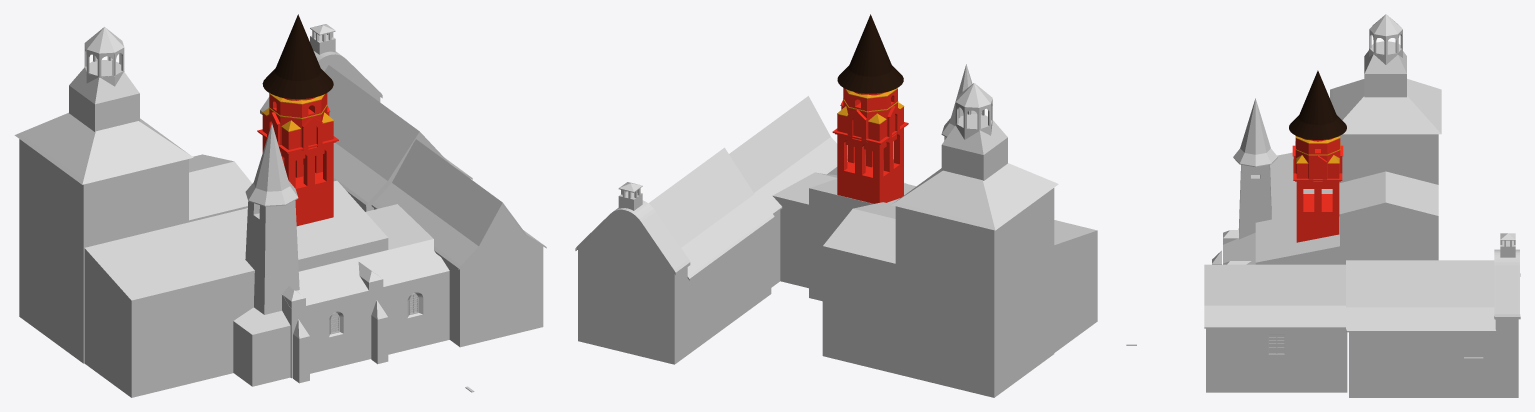
File: TheChurch.fbx
The picture shows the model from 3 angles, left to right: view 1: azimuth 30°, elevation 25°; view 2: azimuth 150°, elevation 25°; view 3: azimuth 270°, elevation 25°; orthographic projection. The views are drawn at different scales.
Visible parts, largest first — view 1: Cube.002, Cube.005, Building 1, Cube, Cube.006, Tower 1, Cube.003, Cube.001, Cube.008, Cone.002, Cylinder, Cube.010 (+5 smaller); view 2: Cube.005, Cube.006, Cube.002, Building 1, Cube.003, Cube, Cube.008, Cone.002, Cylinder, Cylinder.005, Cube.004, Cylinder.006 (+2 smaller); view 3: Cube.006, Building 1, Cube.005, Cube.002, Tower 1, Cube.003, Cone.002, Cube.008, Cube, Cylinder, Cylinder.005, Cylinder.006 (+2 smaller).
Part boxes in pixels (x1,y1,x2,y2): Cube.002: [84, 180, 388, 397]; Cube.005: [14, 112, 252, 363]; Building 1: [371, 139, 546, 347]; Cube: [282, 204, 449, 378]; Cube.006: [260, 51, 472, 211]; Tower 1: [245, 123, 299, 314]; Cube.003: [257, 113, 338, 226]; Cube.001: [233, 307, 290, 386]; Cube.008: [69, 67, 139, 131]; Cone.002: [262, 14, 333, 99]; Cylinder: [269, 93, 327, 150]; Cube.010: [371, 300, 388, 364]; Cube.005: [822, 163, 1058, 397]; Cube.006: [575, 147, 774, 364]; Cube.002: [809, 178, 1097, 352]; Building 1: [729, 96, 847, 287]; Cube.003: [832, 107, 908, 203]; Cube: [772, 172, 906, 288]; Cube.008: [941, 120, 1007, 180]; Cone.002: [837, 14, 903, 93]; Cylinder: [843, 88, 897, 142]; Cylinder.005: [955, 100, 992, 130]; Cube.004: [840, 100, 900, 141]; Cylinder.006: [955, 83, 992, 109]; Cube.006: [1346, 249, 1520, 397]; Building 1: [1204, 264, 1347, 392]; Cube.005: [1330, 79, 1441, 264]; Cube.002: [1255, 152, 1339, 264]; Tower 1: [1233, 98, 1277, 239]; Cube.003: [1293, 159, 1342, 242]; Cone.002: [1289, 70, 1346, 139]; Cube.008: [1364, 50, 1406, 97]; Cube: [1223, 230, 1255, 264]; Cylinder: [1295, 138, 1340, 178]; Cylinder.005: [1369, 30, 1402, 55]; Cylinder.006: [1369, 14, 1402, 37].
Size of the model in its own units: 4022 by 2945 by 4175.
